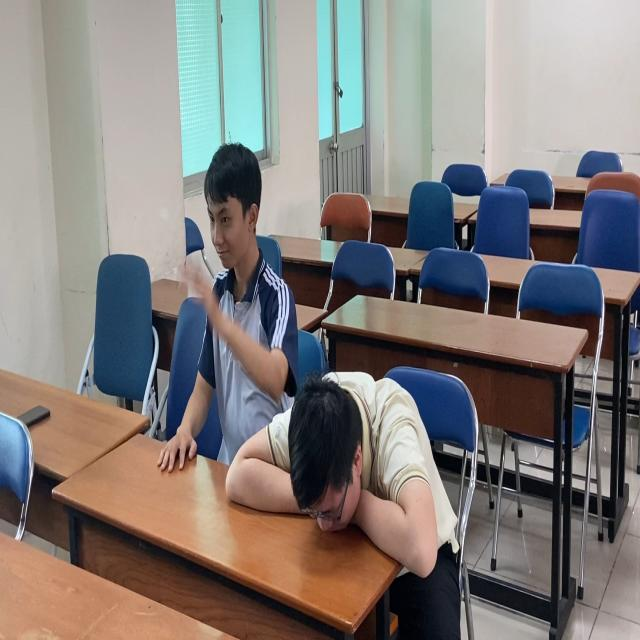sleep: (222, 359, 455, 601)
